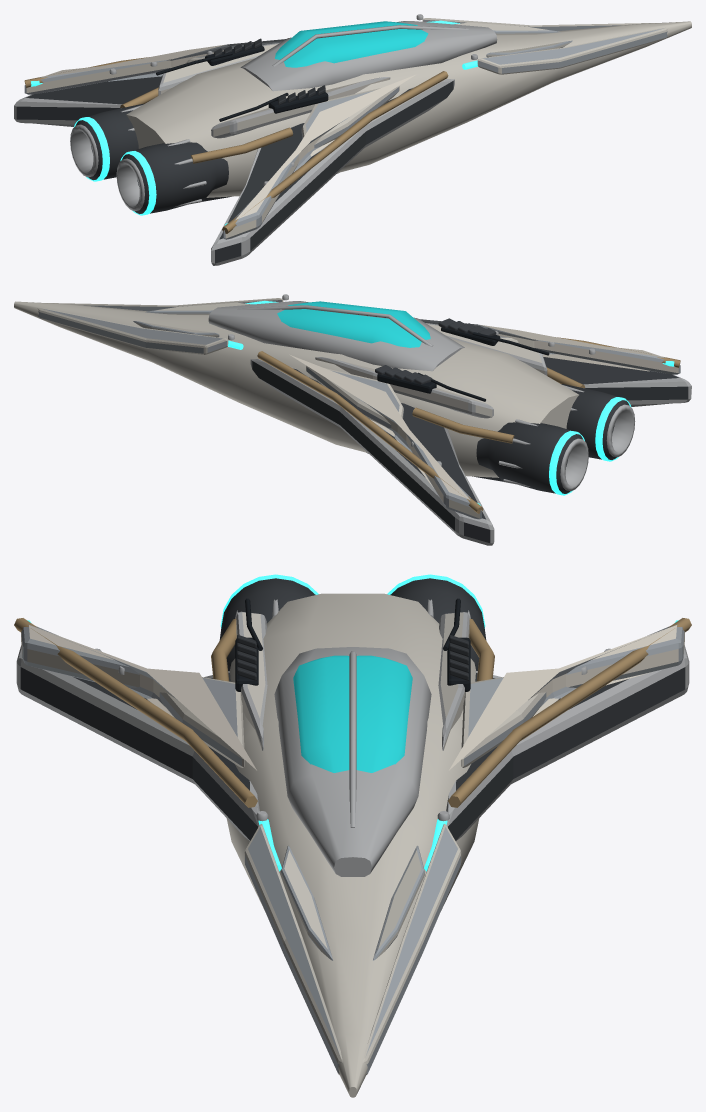
Rendered from Lark.glb.
3 views of the same model, one above another, from view 1: azimuth 30°, elevation 25°; view 2: azimuth 150°, elevation 25°; view 3: azimuth 270°, elevation 25° (orthographic). The views are drawn at different scales.
Parts seen in each view (by area): view 1: Lark_Shell; view 2: Lark_Shell; view 3: Lark_Shell.
Part boxes in pixels (x1,y1,x2,y2): Lark_Shell: (14,14,691,265); Lark_Shell: (14,294,691,545); Lark_Shell: (14,574,691,1097).
Size of the model in its own units: 3.43 by 0.7572 by 2.07.
